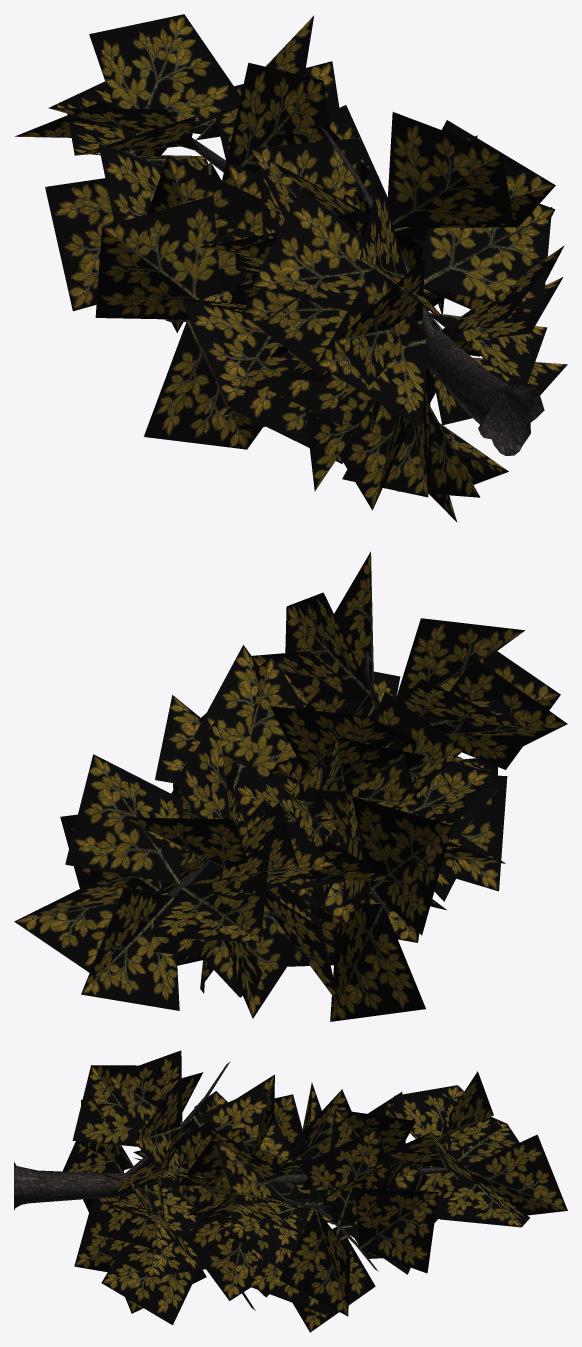
Rendered from tree_7.glb.
3 views of the same model, one above another, from view 1: azimuth 30°, elevation 25°; view 2: azimuth 150°, elevation 25°; view 3: azimuth 270°, elevation 25° (orthographic). The views are drawn at different scales.
Visible parts, largest first — view 1: tree_7_leaves, tree_7; view 2: tree_7_leaves, tree_7; view 3: tree_7_leaves, tree_7.
Boxes of the visible parts, box(x1,y1,x2,y2) form: tree_7_leaves: box(15, 14, 567, 522); tree_7: box(123, 126, 544, 455); tree_7_leaves: box(14, 551, 567, 1021); tree_7: box(166, 651, 389, 915); tree_7_leaves: box(62, 1050, 567, 1332); tree_7: box(14, 1061, 466, 1310).
Size of the model in its own units: 4.53 by 4.26 by 8.29.
Materials: 2 (2 with a texture image).
